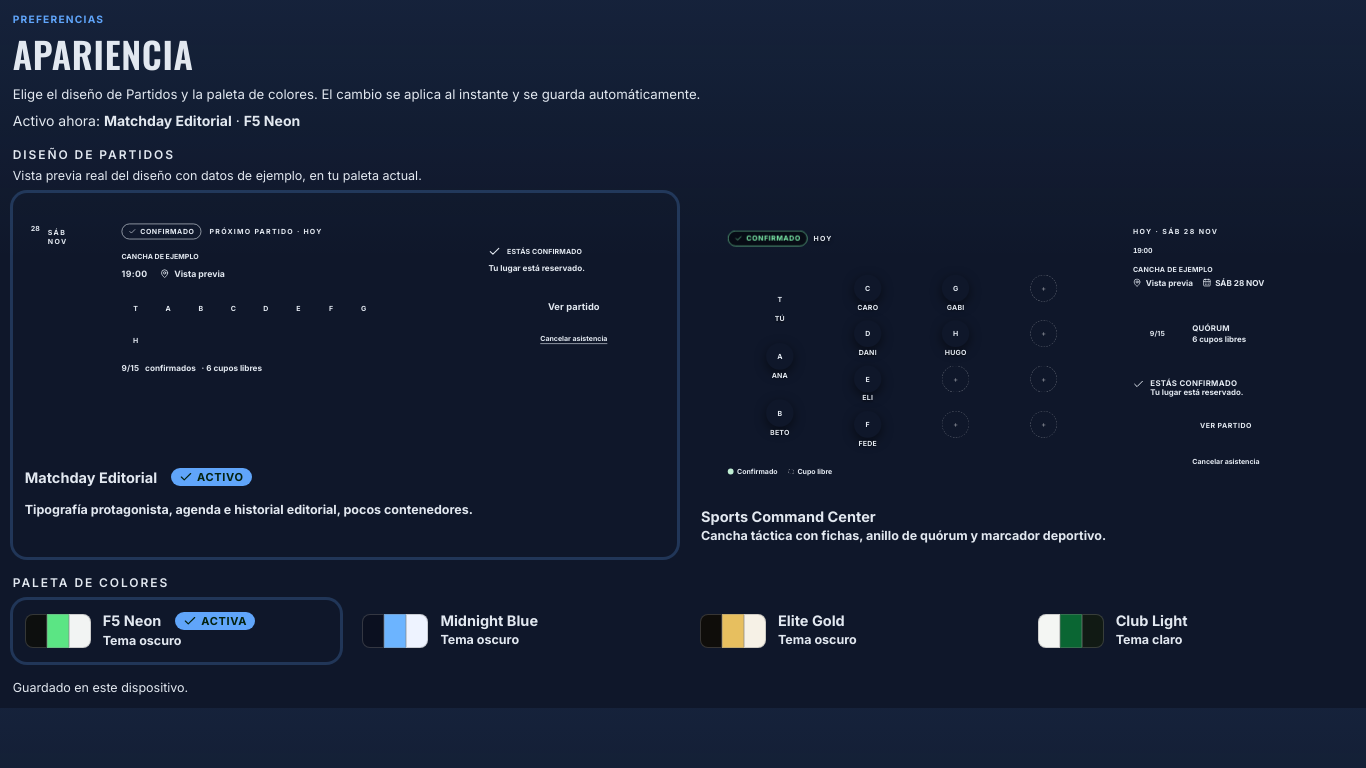
Test: Apariencia screen › renders real previews of both designs, marks the active options and switches instantly
expect the heading "Apariencia" is shown: met, box [13,27,194,80]
expect the element with class "mde-hero" is shown: met, box [31,211,659,385]
Click the radio button labelled "Sports Command Center" at [1021, 375], box [689,193,1353,557]
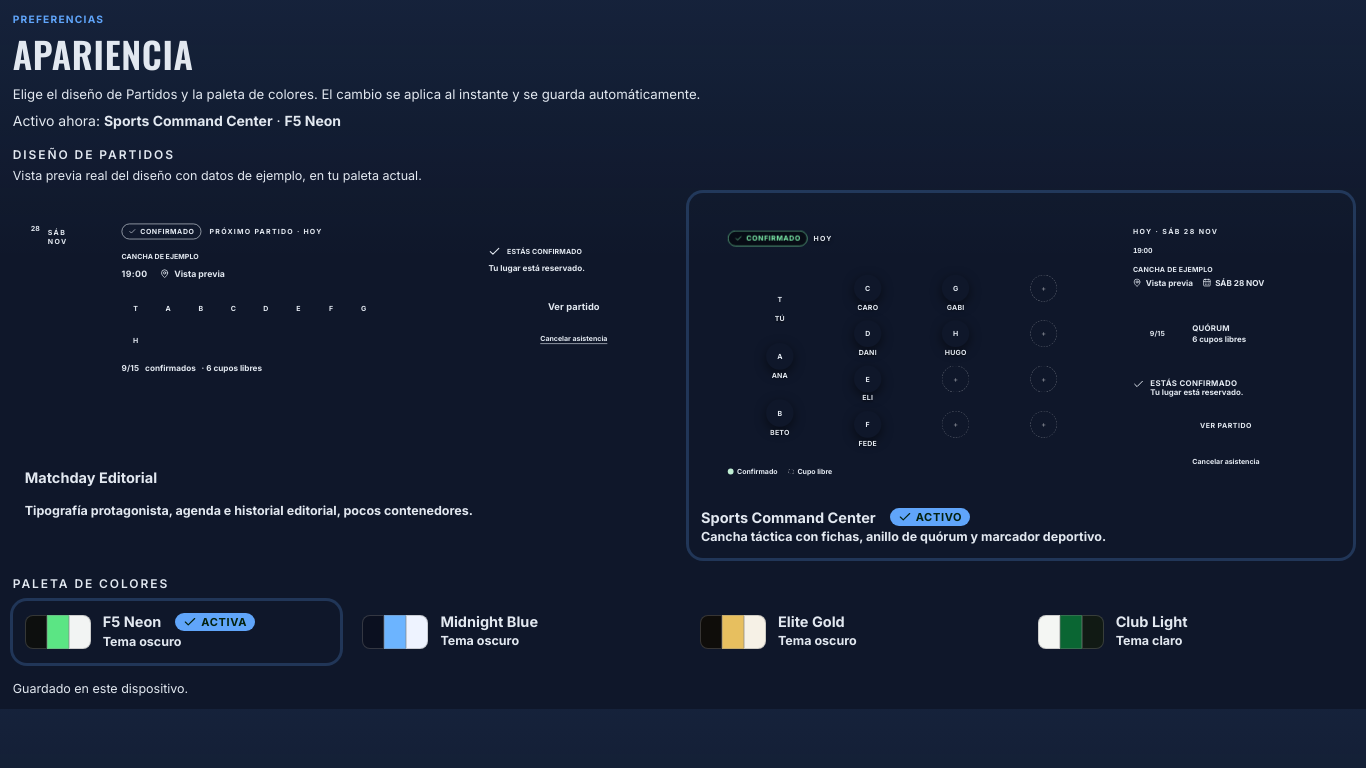
Click the radio button labelled "Elite Gold Tema oscuro" at [778, 631], box [700,613,857,649]
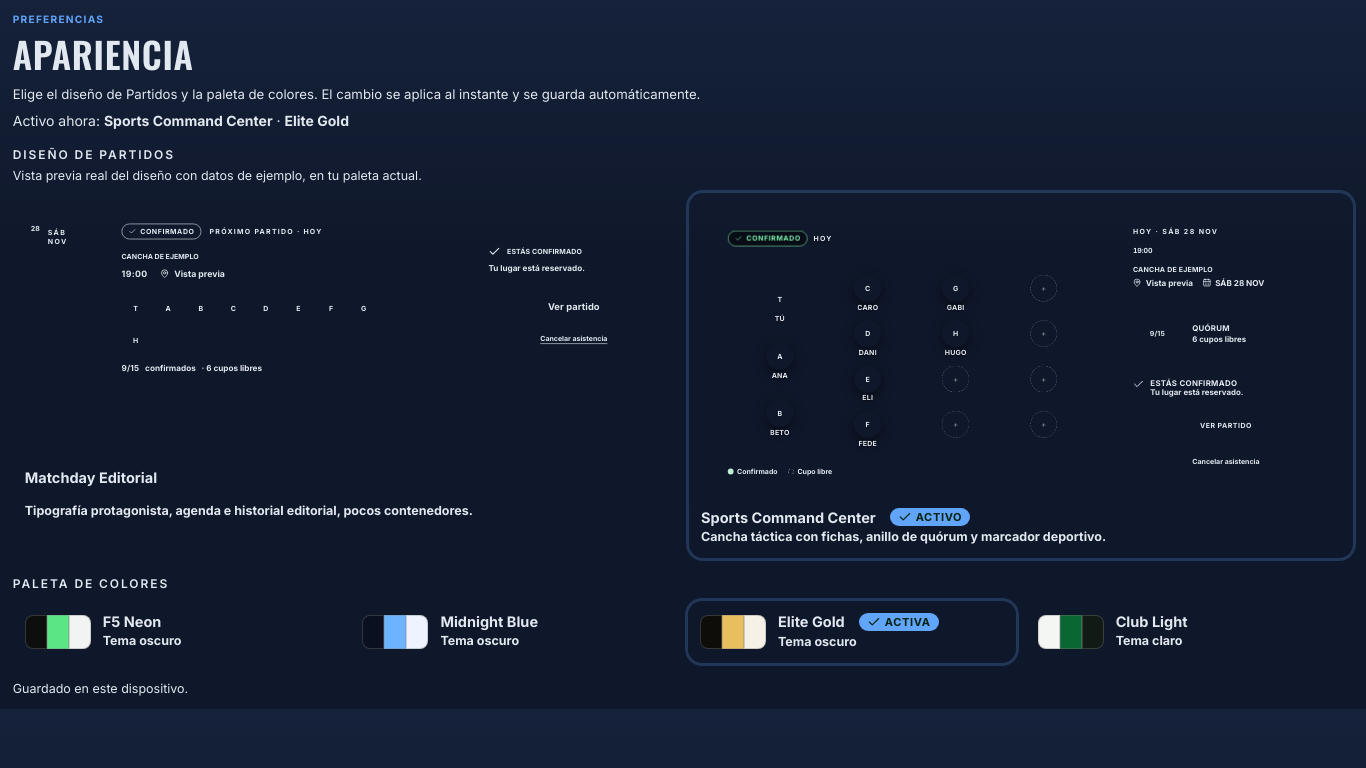
expect the radio button with class "is-selected" shows "Sports Command Center": met, box [701,508,876,526]
expect the radio button with class "is-selected" reads "Elite Gold Activa Tema oscuro": met, box [688,601,1016,663]
expect the message with class "md-appearance-current" shows "Sports Command Center · Elite Gold": met, box [13,112,349,129]
